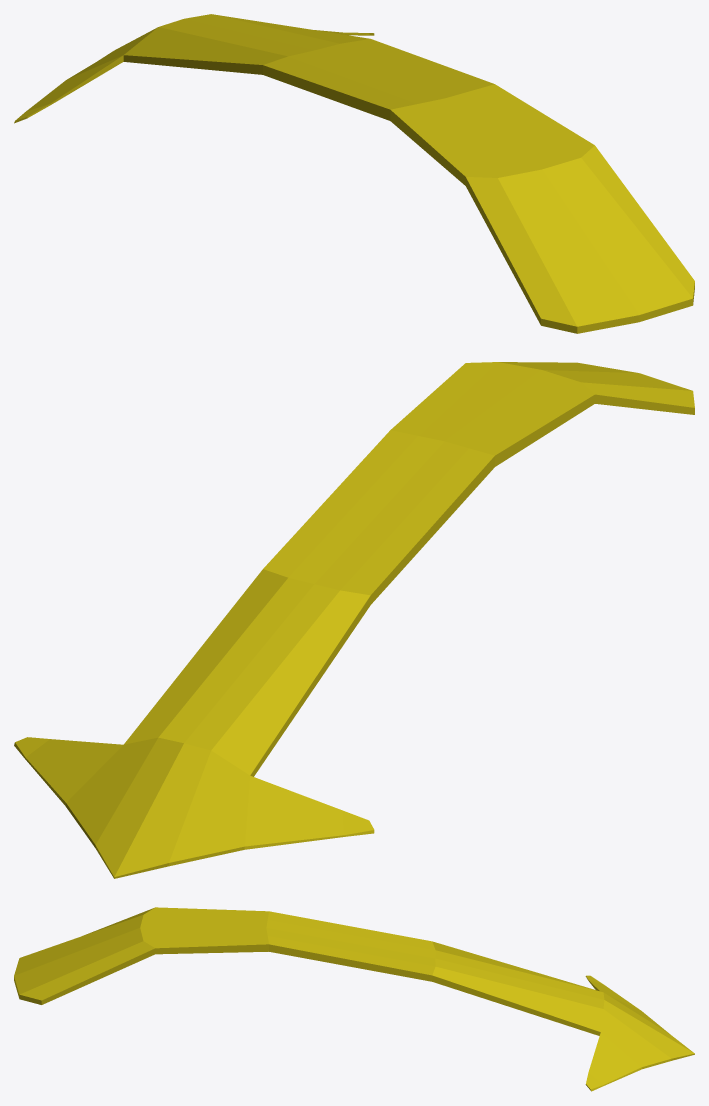
The model's file is arrow.obj.
3 views of the same model, one above another, from view 1: azimuth 30°, elevation 25°; view 2: azimuth 150°, elevation 25°; view 3: azimuth 270°, elevation 25° (orthographic). The views are drawn at different scales.
Parts seen in each view (by area): view 1: Cube; view 2: Cube; view 3: Cube.
Boxes of the visible parts, x1=… form: Cube: x1=14, y1=14, x2=694, y2=333; Cube: x1=14, y1=362, x2=694, y2=878; Cube: x1=14, y1=907, x2=694, y2=1091.
Size of the model in its own units: 1.45 by 0.7528 by 3.66.
